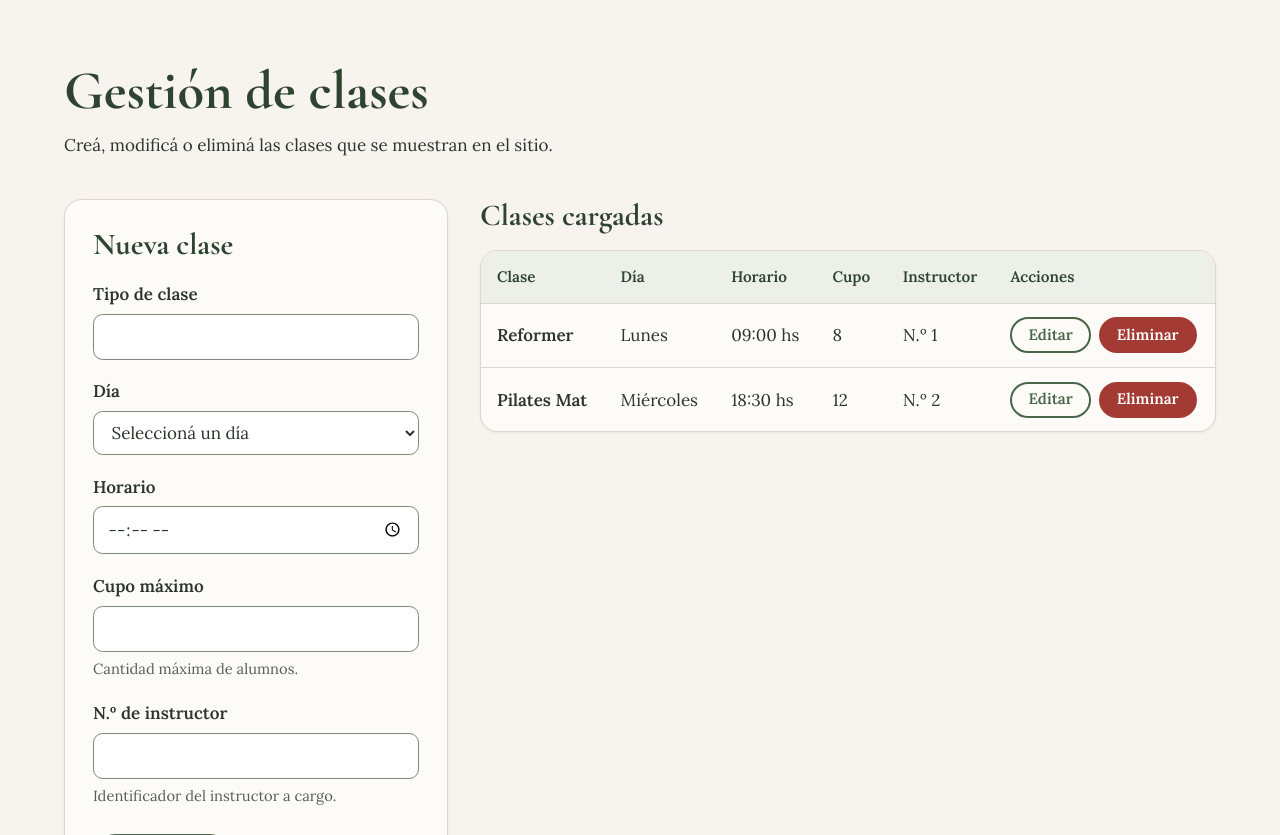
AdminClasesPage › crea una clase, la agrega al listado y notifica el éxito
Expected: the table is shown, [481,251,1215,431]
Type " Stretching " into the field labelled "Tipo de clase".
click(256, 337); type(" Stretching ")  # box [93,314,419,360]
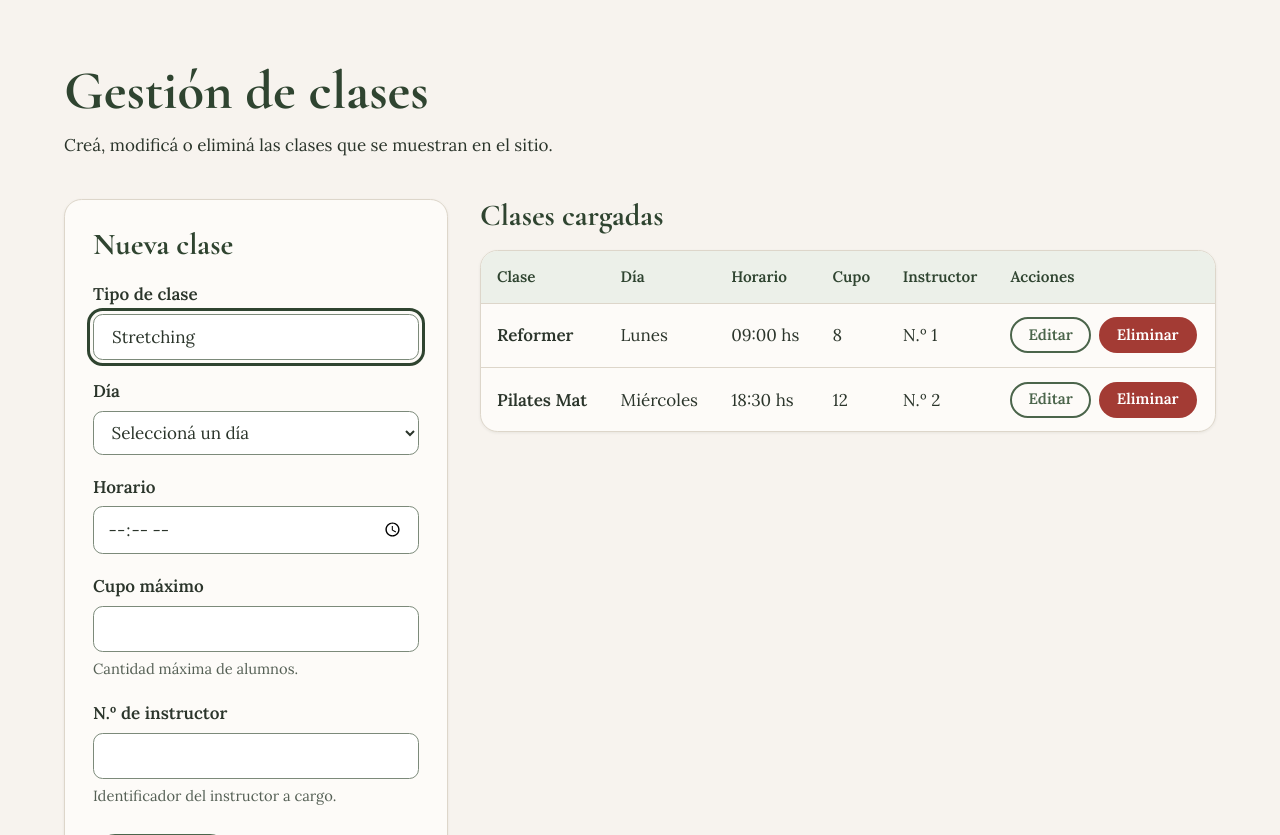
Select "Martes" in the dropdown labelled "Día" at (256, 433), box [93,411,419,455]
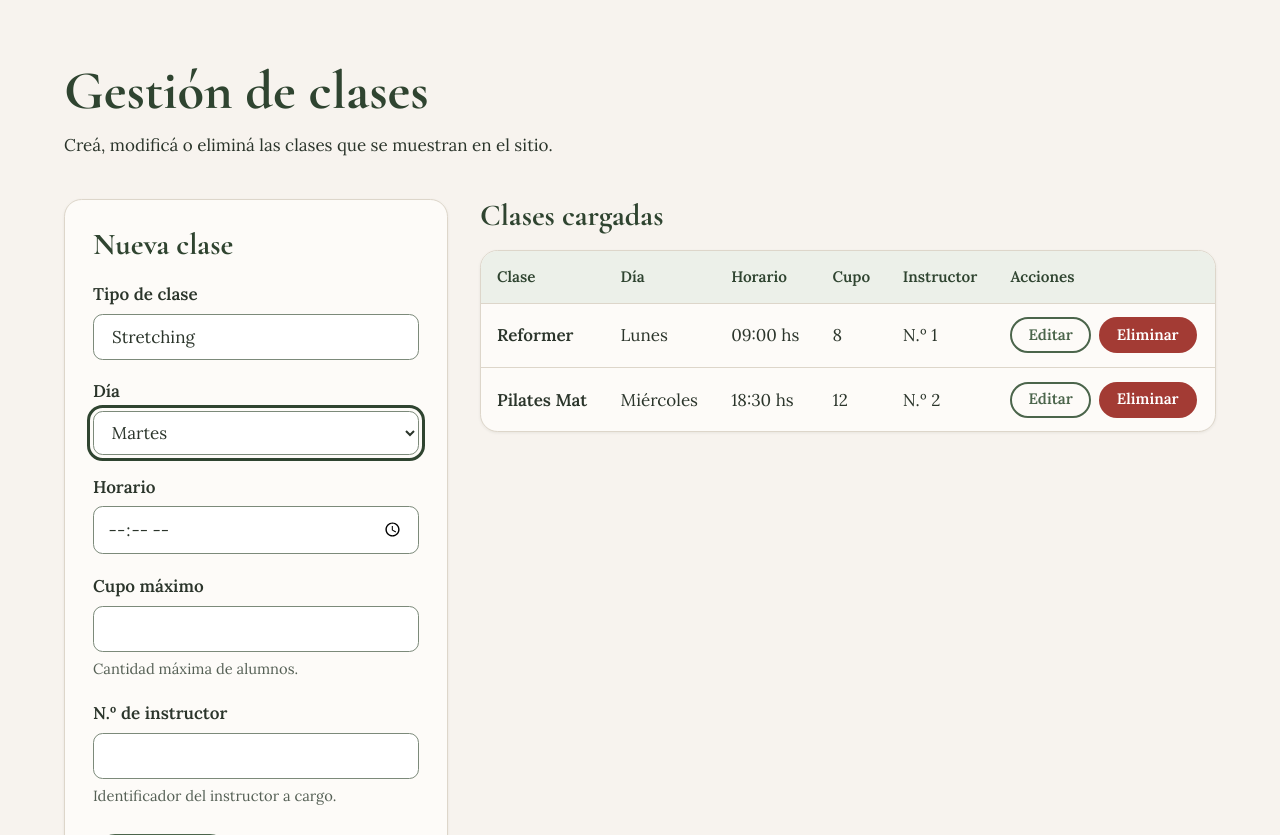
Type "11:15" into the time field labelled "Horario".
click(256, 530); type("11:15")  # box [93,506,419,554]
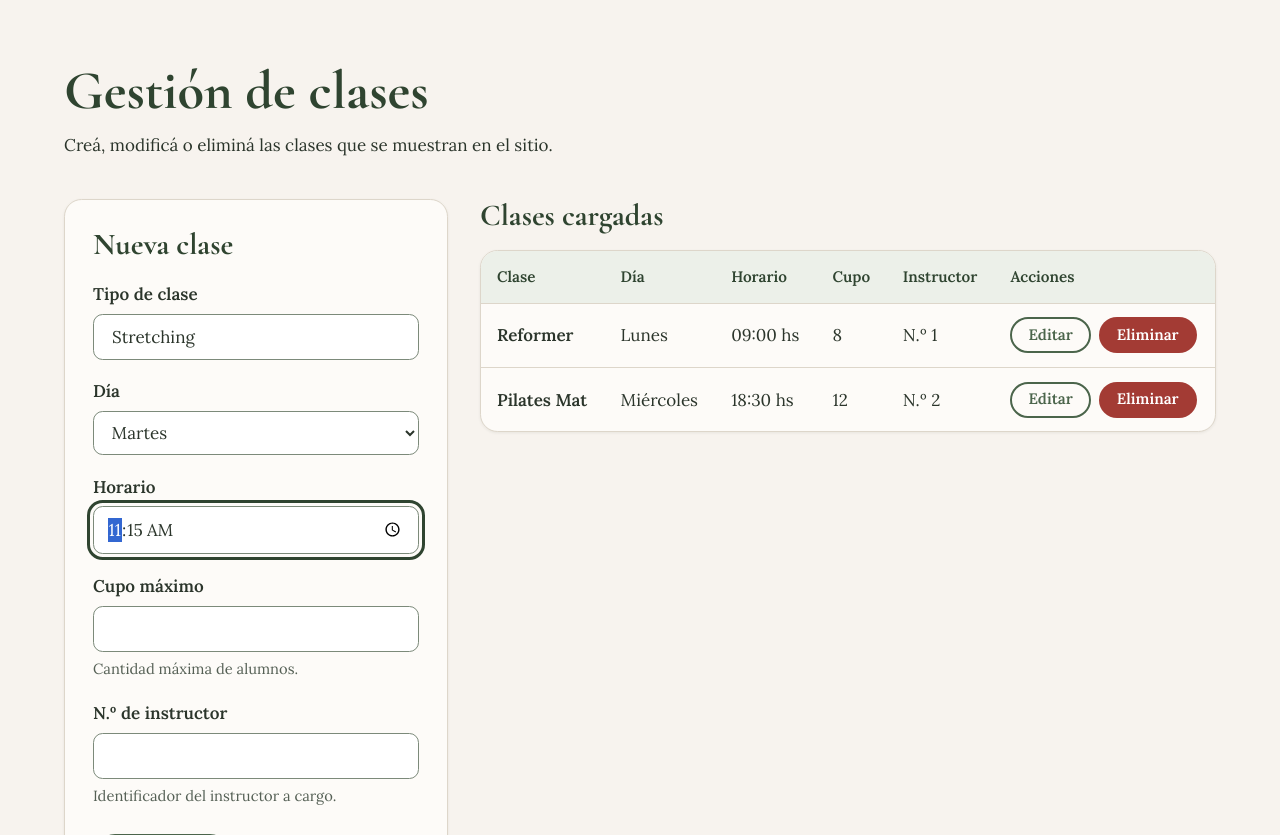
Type "10" into the number field labelled "Cupo máximo".
click(256, 629); type("10")  # box [93,606,419,652]
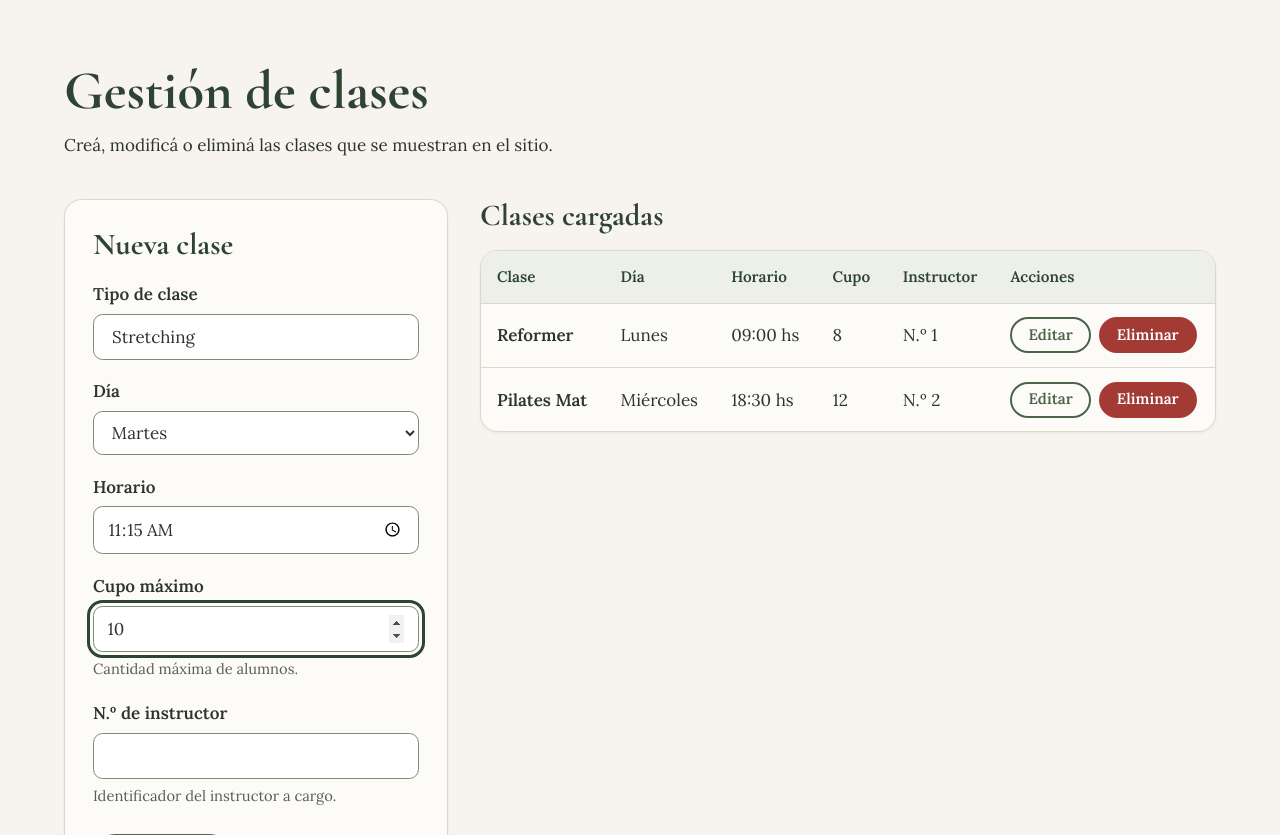
Type "3" into the number field labelled "N.º de instructor".
click(256, 756); type("3")  # box [93,733,419,779]
(page scrolled)
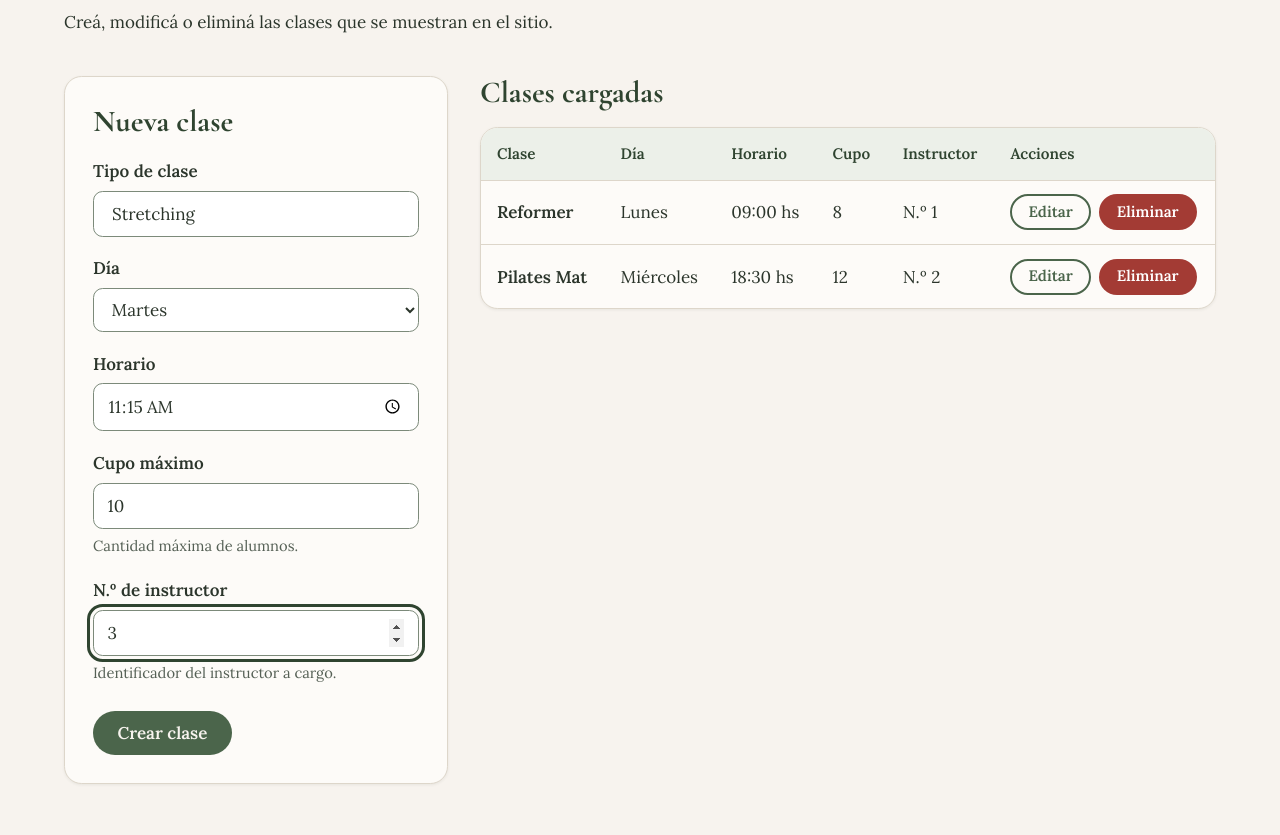
Click the button "Crear clase".
click(162, 733)  # box [93,711,232,755]
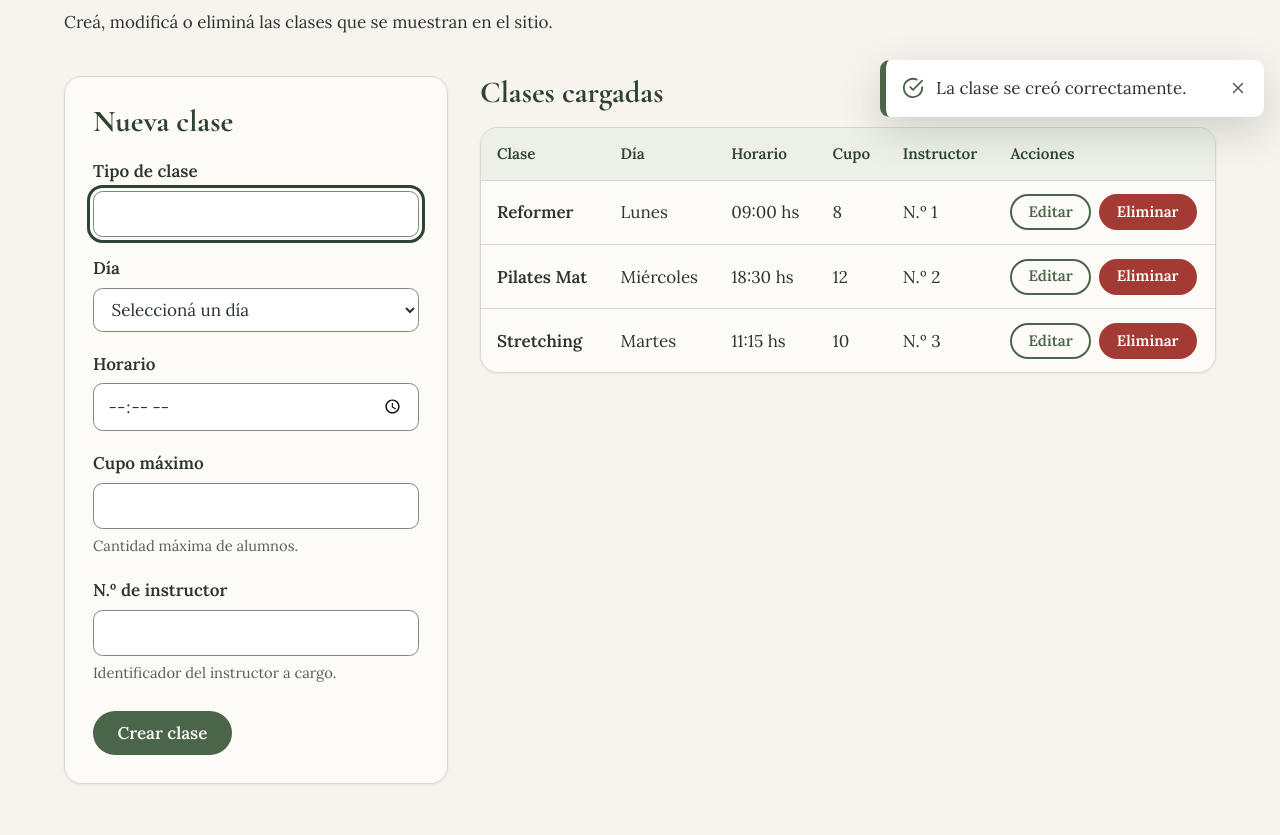
Expected: the text "La clase se creó correctamente." is shown, [936,74,1210,102]
Expected: the column heading "Stretching" is shown, [481,309,604,372]
Expected: the field labelled "Tipo de clase" is empty, [93,191,419,237]
